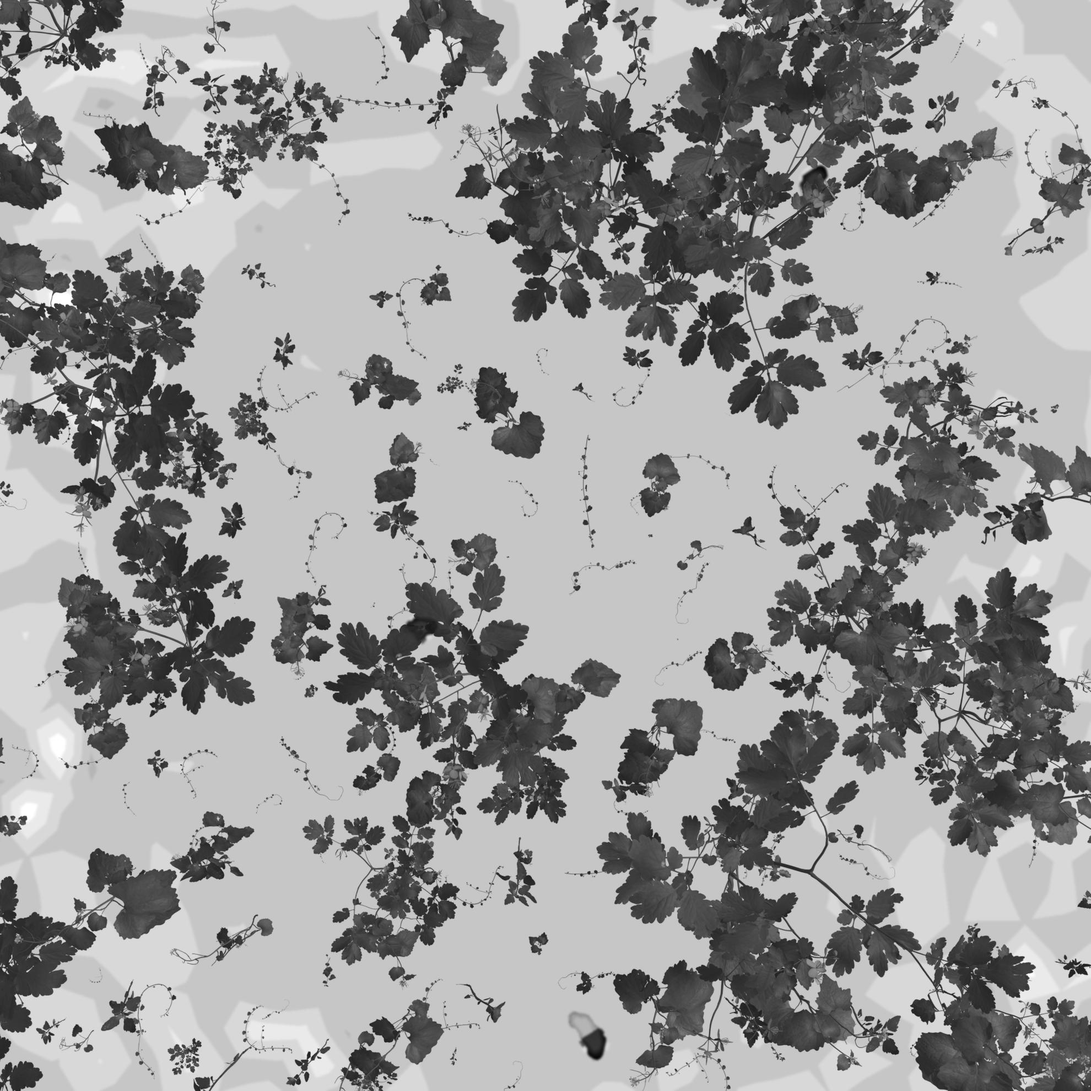landmine: (561, 1008, 609, 1066)
